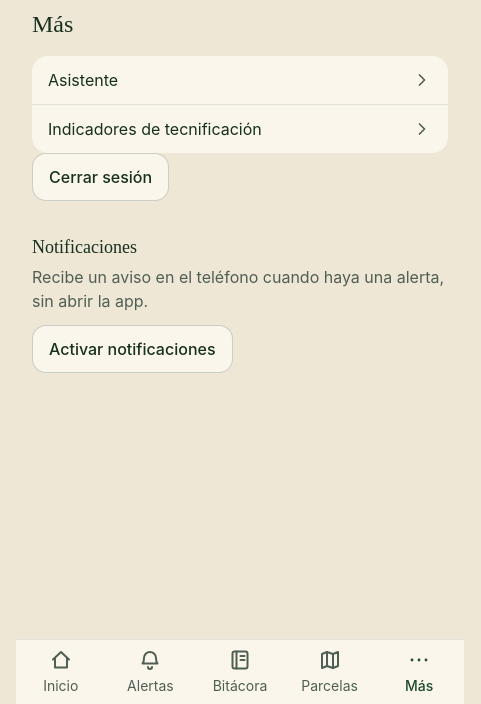
Test: buildRoutes › reaches the assistant screen from the Más list
Step 1. Click the link "Asistente" → (83, 80), box [48, 70, 432, 90]
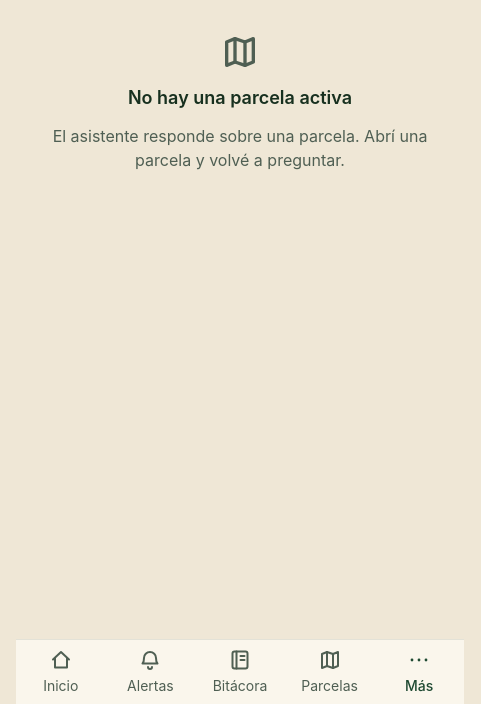
Result: the text "No hay una parcela activa" is shown at [128, 84, 352, 112]
